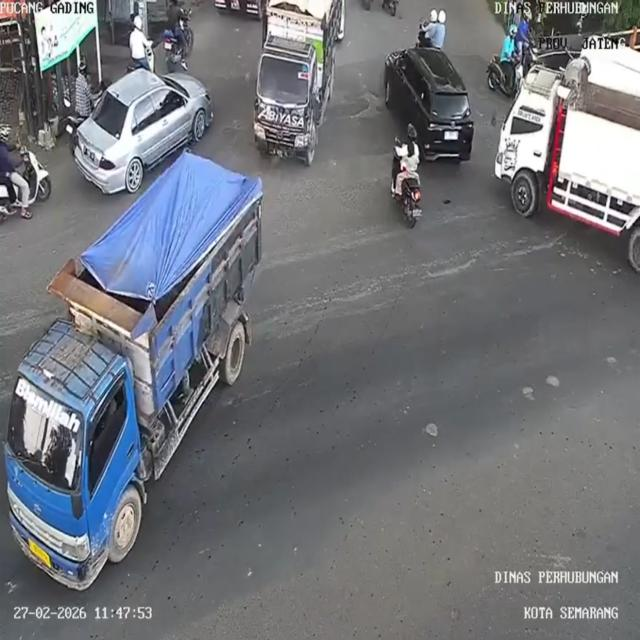motorcycle: (0, 151, 51, 224), (394, 170, 424, 229), (490, 54, 522, 99), (162, 34, 192, 68), (417, 23, 428, 48)
person: (400, 122, 424, 180), (71, 65, 96, 117), (131, 14, 151, 68), (0, 121, 18, 175), (165, 0, 188, 40), (500, 24, 518, 68), (406, 142, 418, 183), (424, 8, 438, 43), (520, 14, 532, 53), (436, 11, 446, 47)
rider_region: (0, 119, 52, 222), (389, 122, 426, 230), (486, 24, 527, 99), (163, 0, 195, 74), (416, 8, 448, 50)
